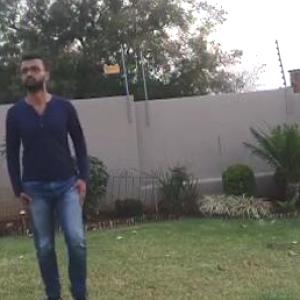follow: (8, 49, 101, 299)
